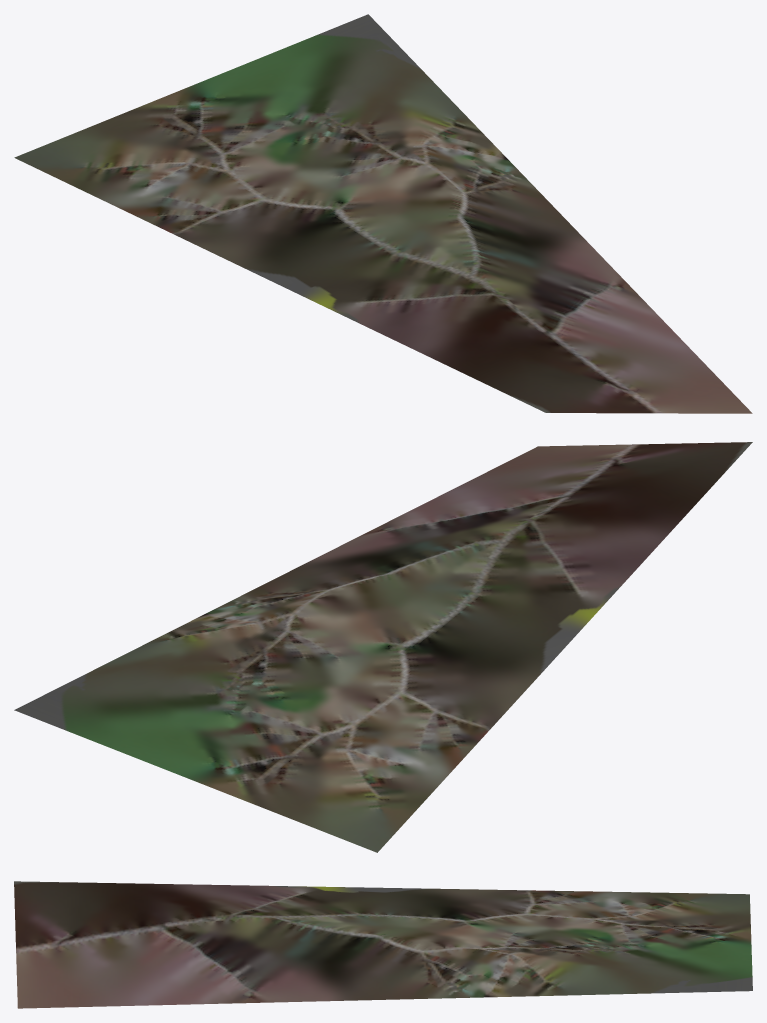
The model's file is Chestnut Branch dry.fbx.
The picture shows the model from 3 angles, top to bottom: view 1: azimuth 30°, elevation 25°; view 2: azimuth 150°, elevation 25°; view 3: azimuth 270°, elevation 25°; orthographic projection. The views are drawn at different scales.
Visible parts, largest first — view 1: Polygon; view 2: Polygon; view 3: Polygon.
Boxes of the visible parts, x1,y1,x2,y2 form: Polygon: (14, 14, 752, 413); Polygon: (14, 442, 752, 852); Polygon: (14, 881, 752, 1008).
Bounding box in the file's own units: 33.98 × 5.03 × 74.8.
Materials: 1 (1 with a texture image).
